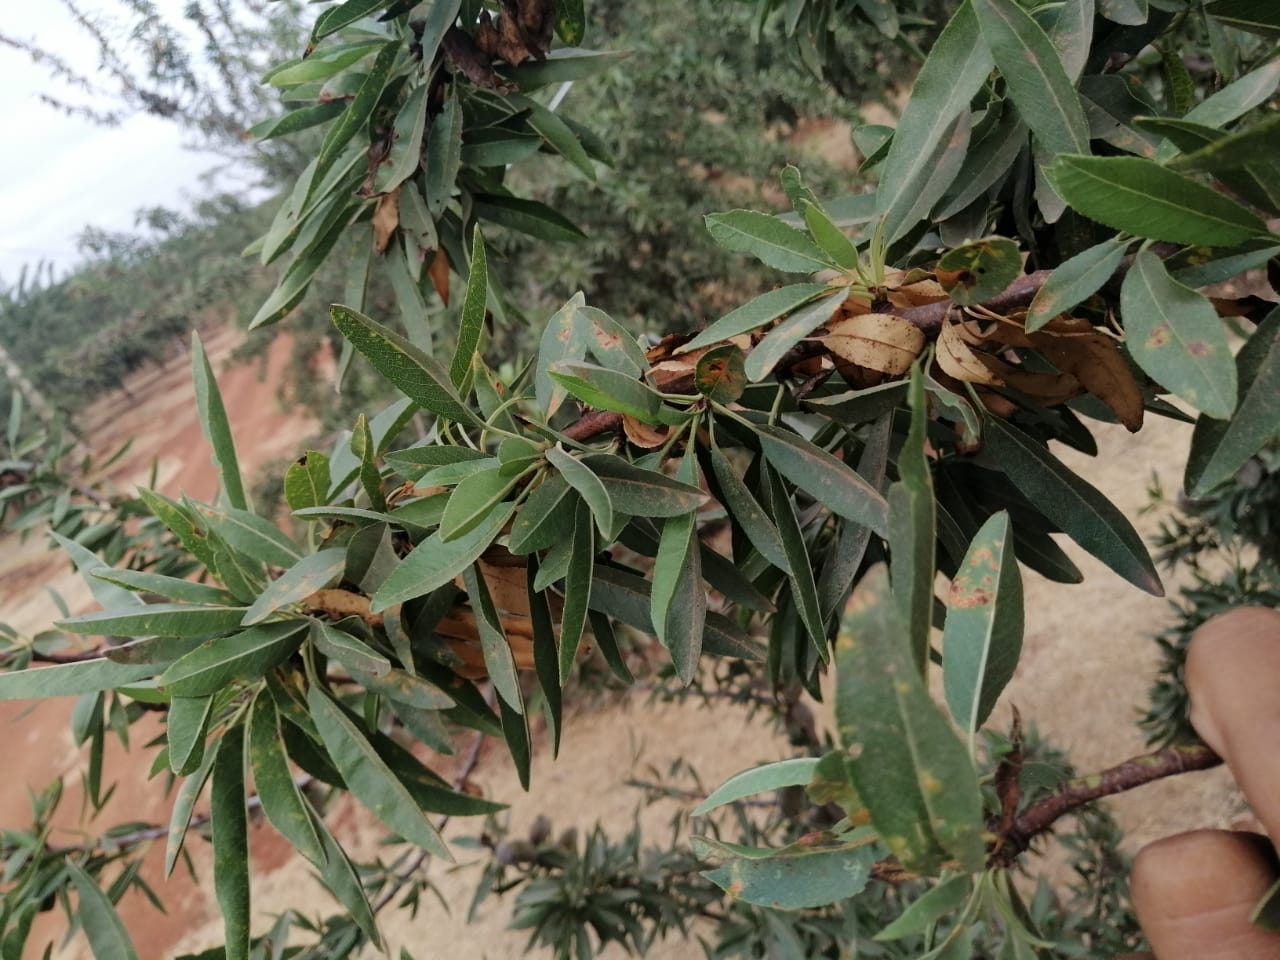scolytes: (279, 238, 1144, 635)
